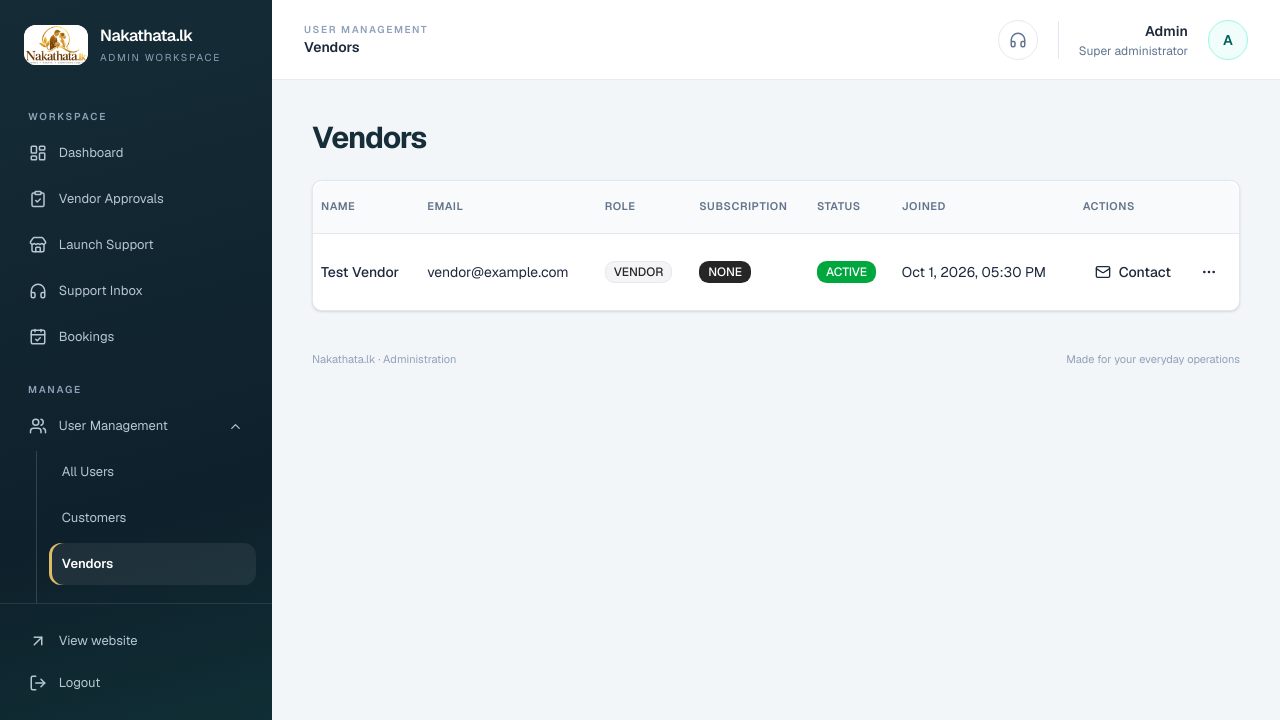
Scenario: Vendor action menu › opens the subscription submenu and reports status errors
This screenshot has width=1280, height=720.
Check: the text "vendor@example.com" is shown, box [419, 233, 597, 310]
Click the button named "More actions for Test Vendor" at (1209, 272), box [1187, 250, 1231, 294]
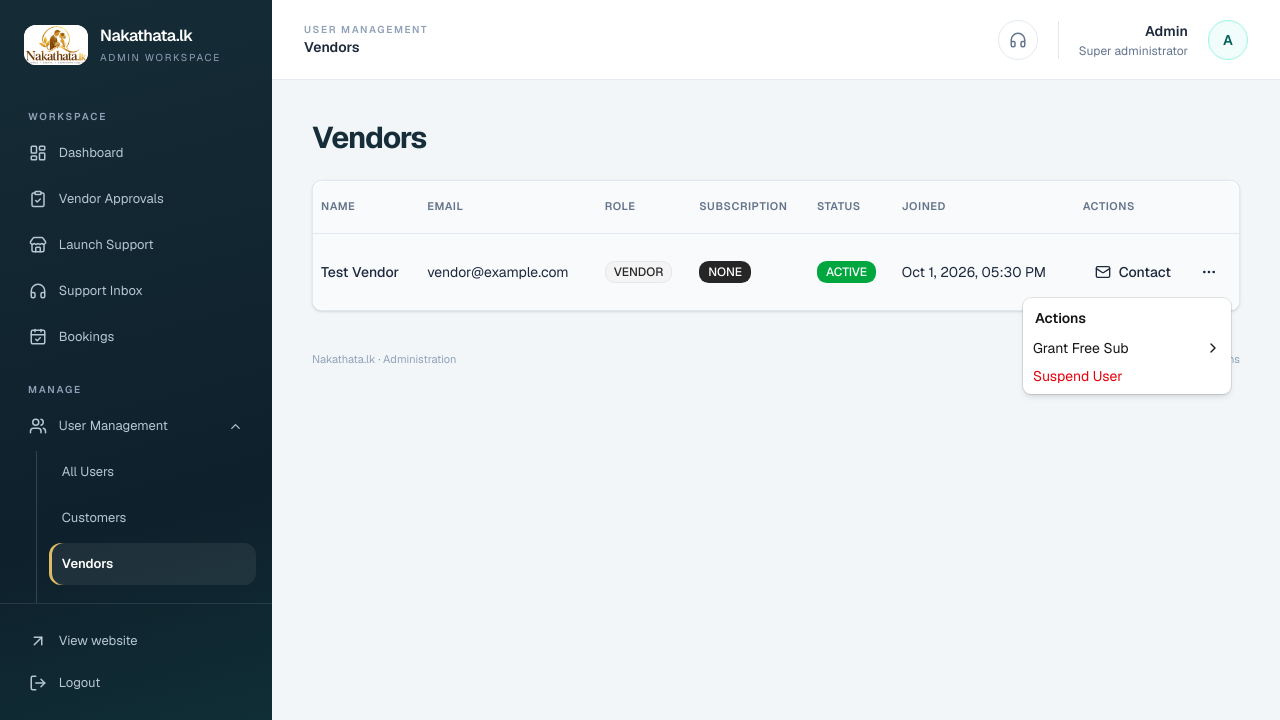
Click the menu item "Grant Free Sub" at (1127, 348), box [1027, 334, 1227, 362]
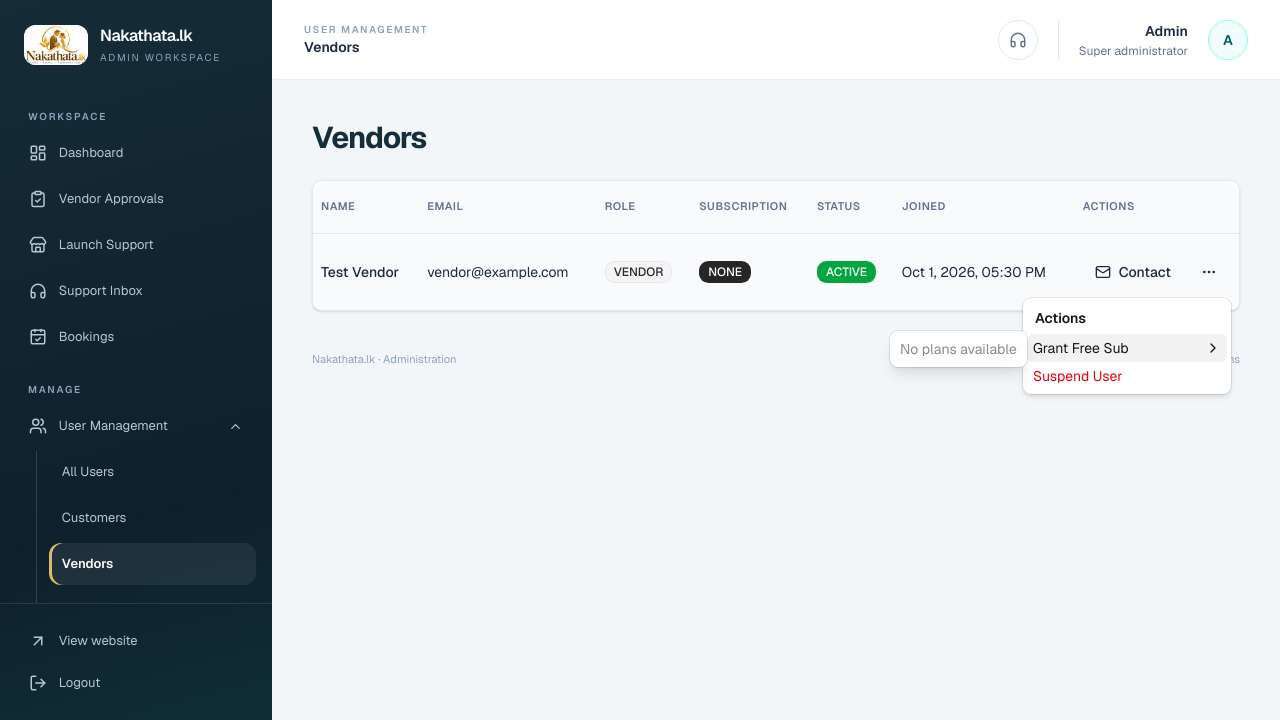
Check: the menu item "No plans available" is shown, box [894, 335, 1023, 363]
Press Esc
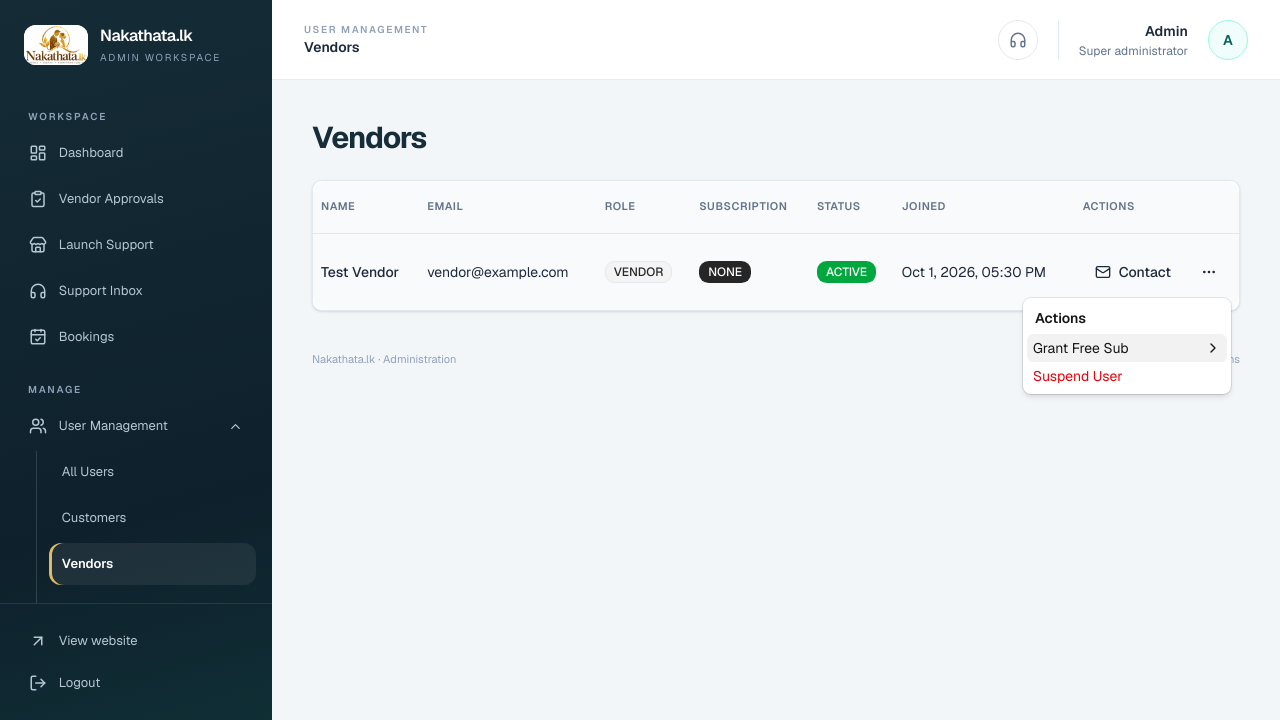
Click the menu item "Suspend User" at (1078, 376), box [1033, 367, 1122, 385]
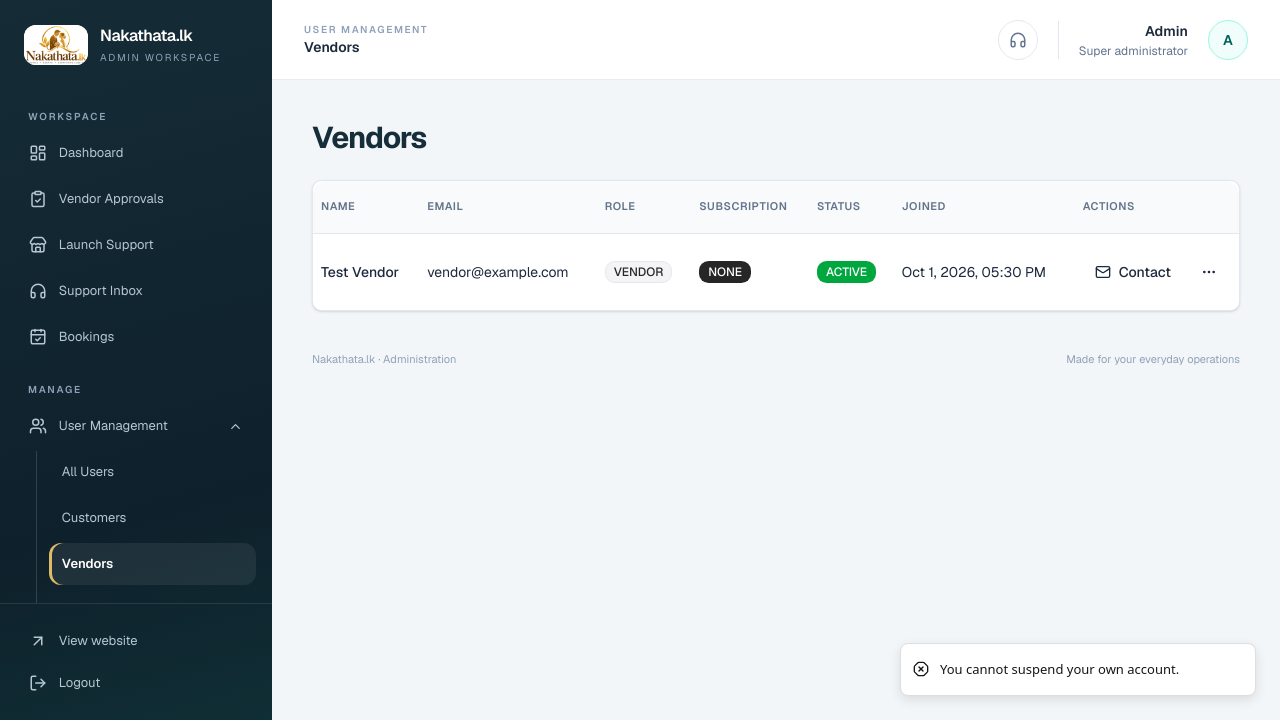
Check: the text "ACTIVE" is shown, box [809, 233, 894, 310]
Check: the text "You cannot suspend your own account." is shown, box [940, 660, 1179, 679]
